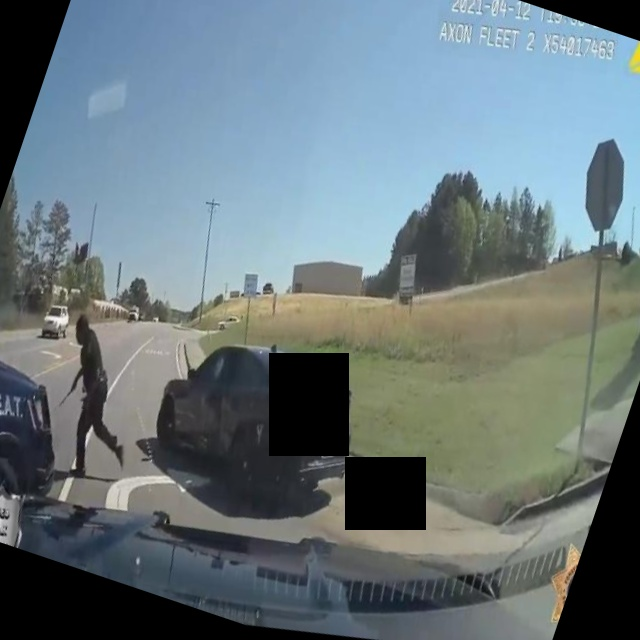gun: (45, 365, 91, 417)
